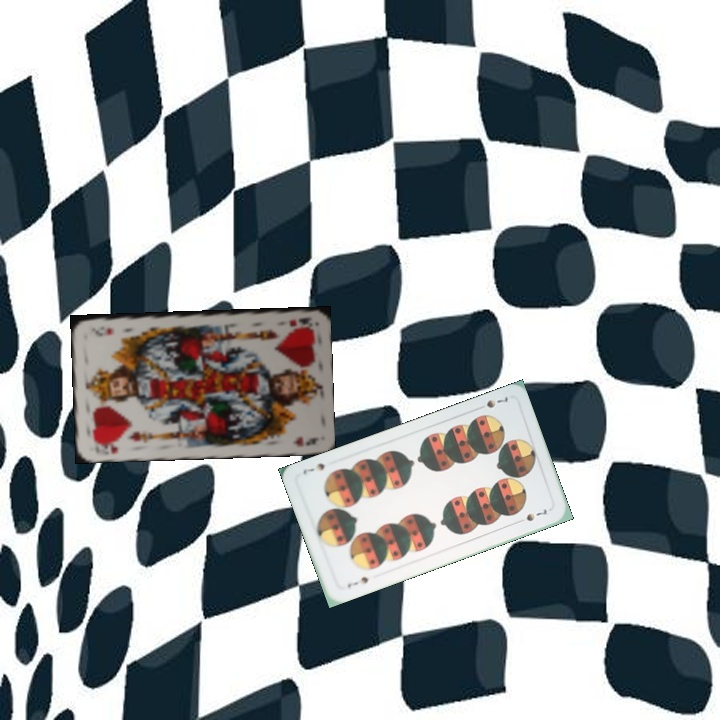HK: (90, 438, 123, 456), (285, 313, 314, 329)
S7: (473, 393, 511, 412), (343, 573, 371, 590)
